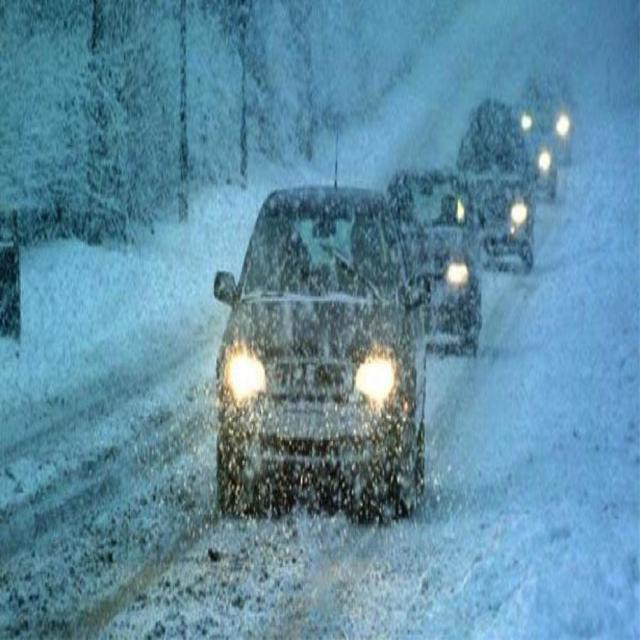car: (216, 182, 423, 509), (389, 162, 481, 358), (458, 116, 534, 272), (509, 105, 557, 200), (522, 82, 572, 165)
